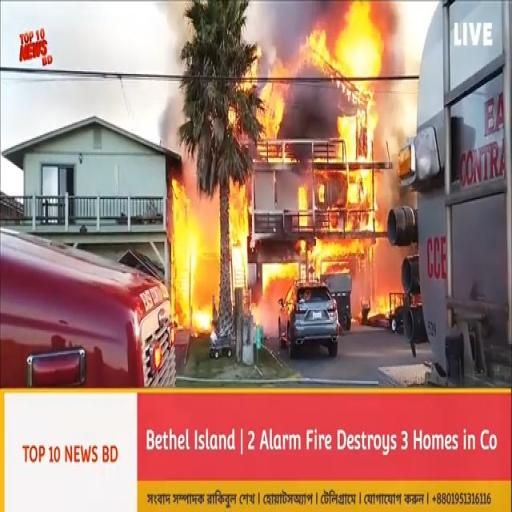fire: (179, 174, 224, 317), (341, 4, 378, 160), (304, 2, 333, 68), (234, 186, 252, 290), (318, 236, 376, 268), (267, 257, 305, 295), (374, 278, 407, 319)
